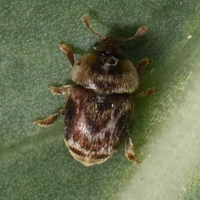insect: (33, 16, 151, 165)
